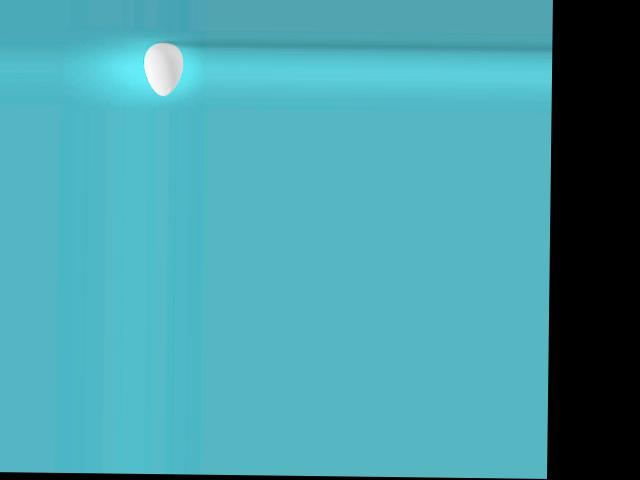egg: (144, 41, 184, 95)
